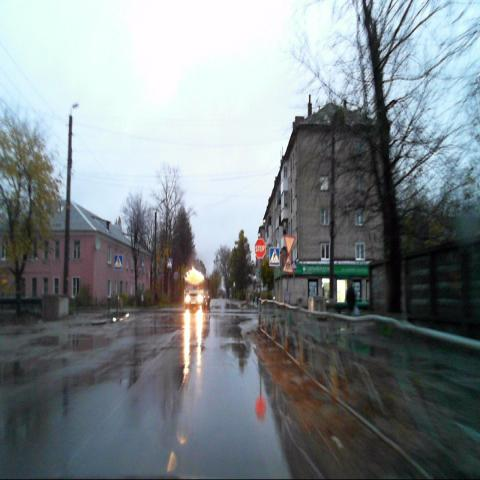1_23: (282, 253, 294, 274)
2_4: (284, 235, 296, 253)
2_5: (255, 238, 266, 259)
5_19_1: (269, 247, 280, 266), (114, 254, 123, 269)
